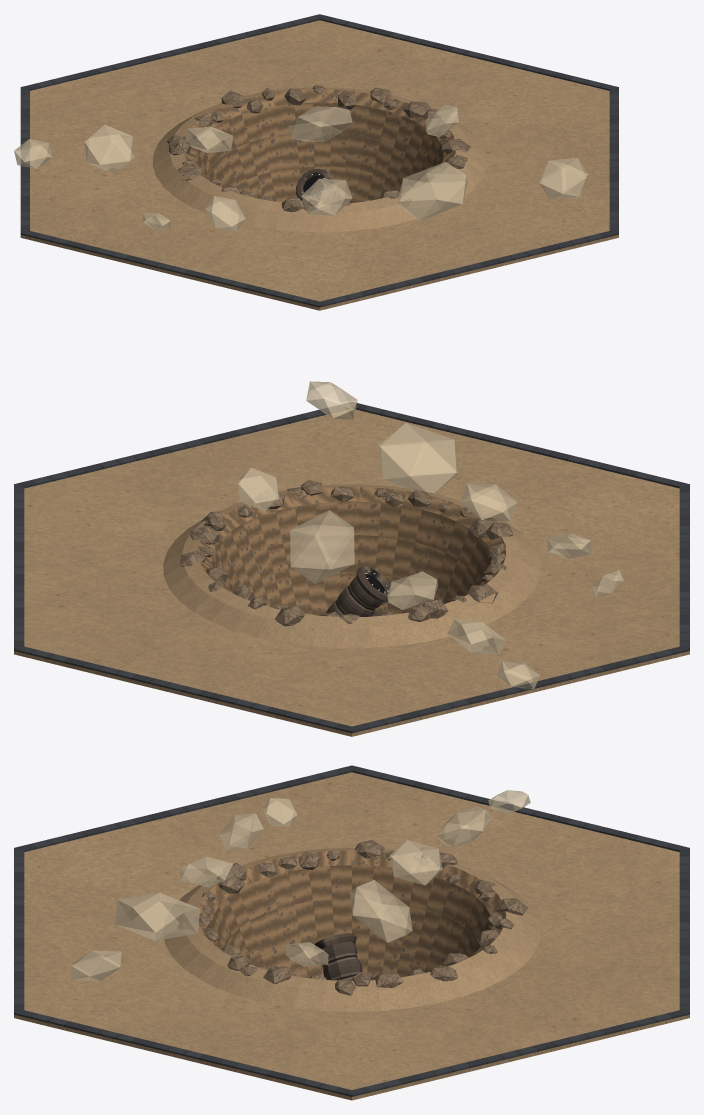
Rendered from WasteHex_Single.glb.
The picture shows the model from 3 angles, top to bottom: view 1: azimuth 30°, elevation 25°; view 2: azimuth 150°, elevation 25°; view 3: azimuth 270°, elevation 25°; orthographic projection. The views are drawn at different scales.
Parts seen in each view (by area): view 1: WasteHex_Single_Ground, WasteHex_Single_Prop_PitWall, WasteHex_Single_Prop_PitRim, WasteHex_Single_GroundTrim, WasteHex_Single_Prop_Rock, WasteHex_Single_Dust02_05, WasteHex_Single_Dust01_03, WasteHex_Single_Dust01_05, WasteHex_Single_Dust02_06, WasteHex_Single_Dust02_04, WasteHex_Single_Worm, WasteHex_Single_Dust01_04 (+3 smaller); view 2: WasteHex_Single_Ground, WasteHex_Single_Prop_PitWall, WasteHex_Single_Prop_PitRim, WasteHex_Single_GroundTrim, WasteHex_Single_Prop_Rock, WasteHex_Single_Dust02_05, WasteHex_Single_Dust01_05, WasteHex_Single_Worm, WasteHex_Single_Dust02_04, WasteHex_Single_Dust01_03, WasteHex_Single_Dust02_06, WasteHex_Single_Dust01_04 (+3 smaller); view 3: WasteHex_Single_Ground, WasteHex_Single_Prop_PitWall, WasteHex_Single_Prop_PitRim, WasteHex_Single_GroundTrim, WasteHex_Single_Prop_Rock, WasteHex_Single_Dust02_05, WasteHex_Single_Dust01_05, WasteHex_Single_Dust01_04, WasteHex_Single_Worm, WasteHex_Single_Dust01_03, WasteHex_Single_Dust02_06, WasteHex_Single_Dust02_04 (+4 smaller).
Boxes of the visible parts, <box> form: WasteHex_Single_Ground: <box>20,20,618,310</box>; WasteHex_Single_Prop_PitWall: <box>184,89,455,203</box>; WasteHex_Single_Prop_PitRim: <box>152,87,486,232</box>; WasteHex_Single_GroundTrim: <box>20,14,618,307</box>; WasteHex_Single_Prop_Rock: <box>167,85,470,211</box>; WasteHex_Single_Dust02_05: <box>397,162,467,220</box>; WasteHex_Single_Dust01_03: <box>84,124,134,172</box>; WasteHex_Single_Dust01_05: <box>288,106,352,141</box>; WasteHex_Single_Dust02_06: <box>539,157,588,199</box>; WasteHex_Single_Dust02_04: <box>301,178,352,215</box>; WasteHex_Single_Worm: <box>296,169,343,203</box>; WasteHex_Single_Dust01_04: <box>185,126,233,152</box>; WasteHex_Single_Ground: <box>14,409,689,736</box>; WasteHex_Single_Prop_PitWall: <box>198,487,505,615</box>; WasteHex_Single_Prop_PitRim: <box>163,484,540,648</box>; WasteHex_Single_GroundTrim: <box>14,402,689,733</box>; WasteHex_Single_Prop_Rock: <box>179,480,513,626</box>; WasteHex_Single_Dust02_05: <box>378,422,458,493</box>; WasteHex_Single_Dust01_05: <box>290,510,354,584</box>; WasteHex_Single_Worm: <box>317,566,392,616</box>; WasteHex_Single_Dust02_04: <box>460,483,517,521</box>; WasteHex_Single_Dust01_03: <box>447,619,505,654</box>; WasteHex_Single_Dust02_06: <box>306,381,357,419</box>; WasteHex_Single_Dust01_04: <box>387,571,438,609</box>; WasteHex_Single_Ground: <box>14,772,689,1100</box>; WasteHex_Single_Prop_PitWall: <box>198,850,506,977</box>; WasteHex_Single_Prop_PitRim: <box>163,848,540,1011</box>; WasteHex_Single_GroundTrim: <box>14,765,689,1096</box>; WasteHex_Single_Prop_Rock: <box>193,840,527,995</box>; WasteHex_Single_Dust02_05: <box>114,892,200,940</box>; WasteHex_Single_Dust01_05: <box>349,880,412,942</box>; WasteHex_Single_Dust01_04: <box>390,840,442,885</box>; WasteHex_Single_Worm: <box>314,933,373,980</box>; WasteHex_Single_Dust01_03: <box>436,806,492,847</box>; WasteHex_Single_Dust02_06: <box>70,950,121,981</box>; WasteHex_Single_Dust02_04: <box>180,856,233,887</box>.
Size of the model in its own units: 12 by 2.8 by 10.39.
10 materials, 9 textured.
